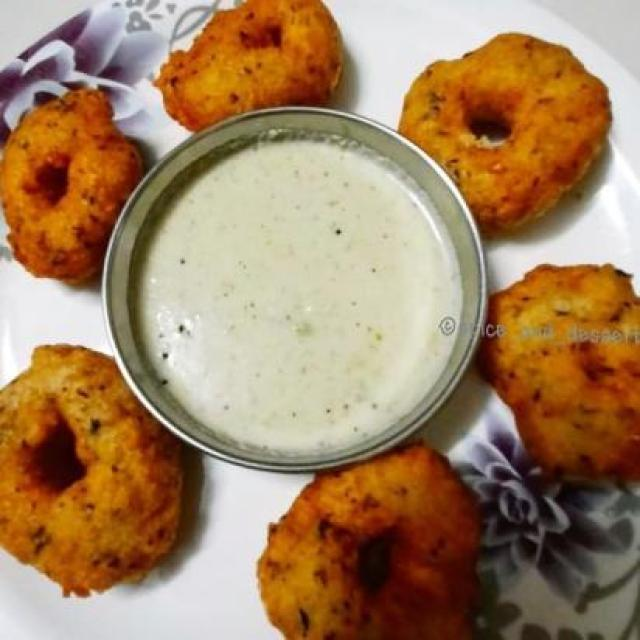vada: (2, 322, 190, 624), (392, 4, 632, 220), (250, 430, 488, 640), (450, 239, 638, 491), (2, 88, 153, 289), (142, 3, 361, 131)
